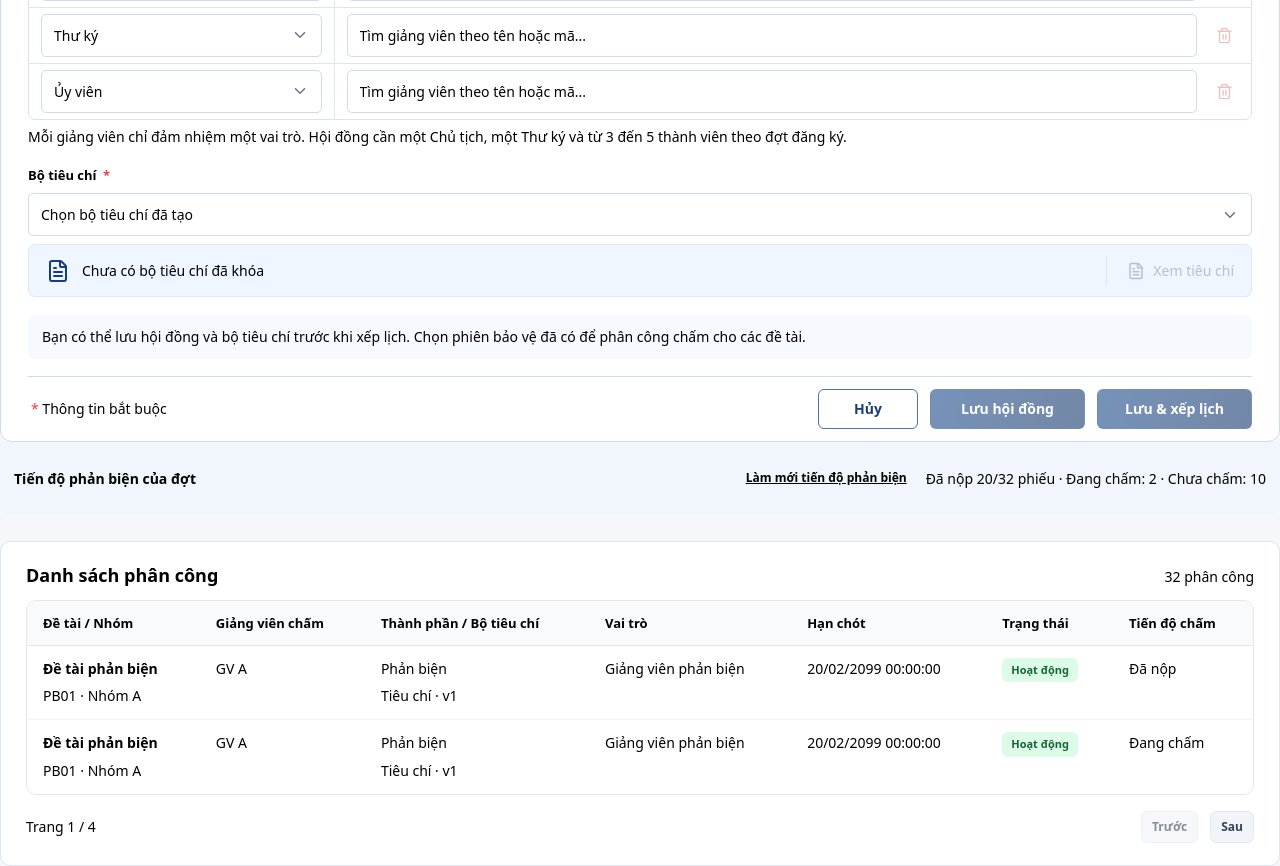
Test case: hiển thị tiến độ toàn đợt, phân biệt trạng thái phân công và phiếu điểm, cho phép làm mới
The image size is (1280, 866).
(page scrolled)
Expected: the text "Đã nộp 20/32 phiếu · Đang chấm: 2 · Chưa chấm: 10" is shown, [926, 468, 1266, 489]
Expected: the table shows "Tiến độ chấm", [1129, 614, 1216, 632]
Click the button "Làm mới tiến độ phản biện".
click(826, 479)  # box [736, 463, 917, 495]
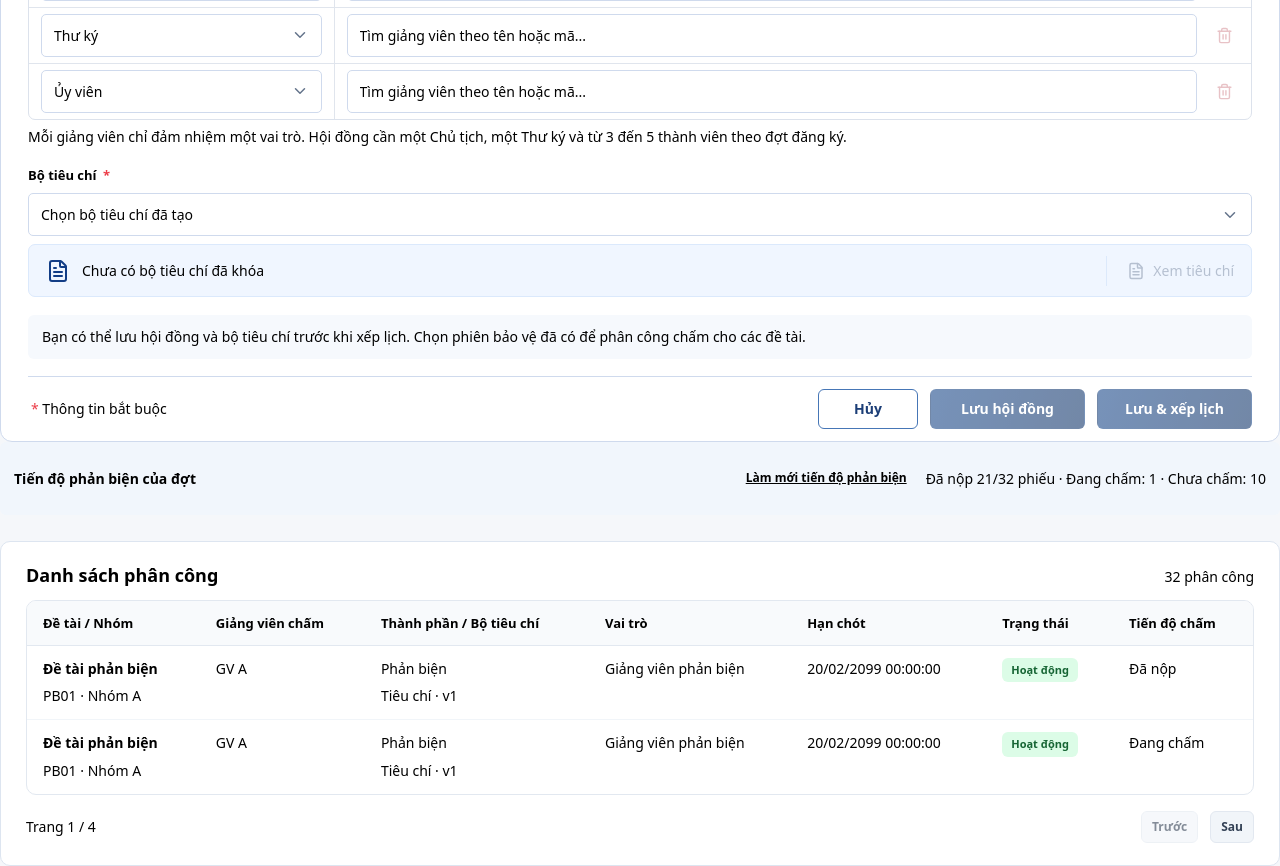
Result: the text "Đã nộp 21/32 phiếu · Đang chấm: 1 · Chưa chấm: 10" is shown at [926, 468, 1266, 489]
